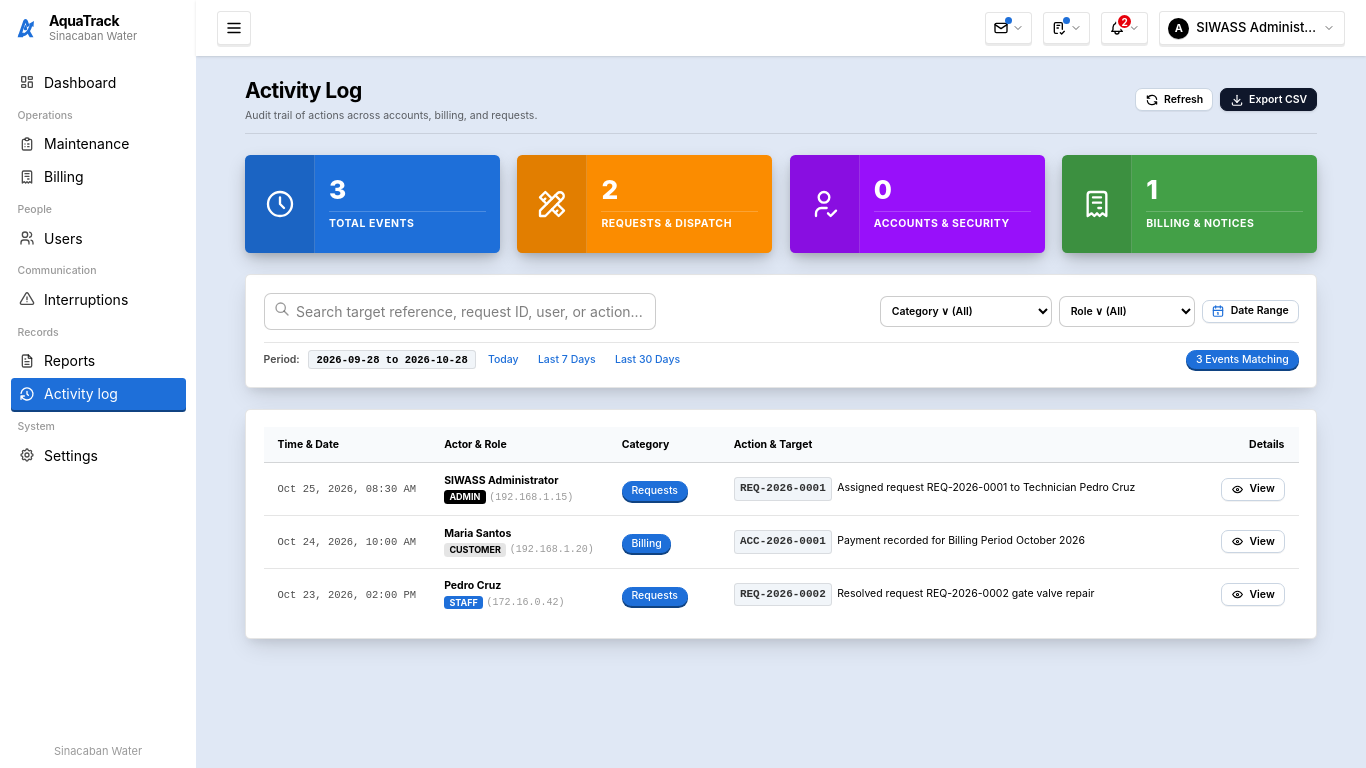
Test case: AdminActivityLogView (Section 13 Audit Trail) › filters audit records by role dropdown
Select "Field Staff" in the dropdown named "filter by role" at (1127, 311), box [1059,296,1195,326]
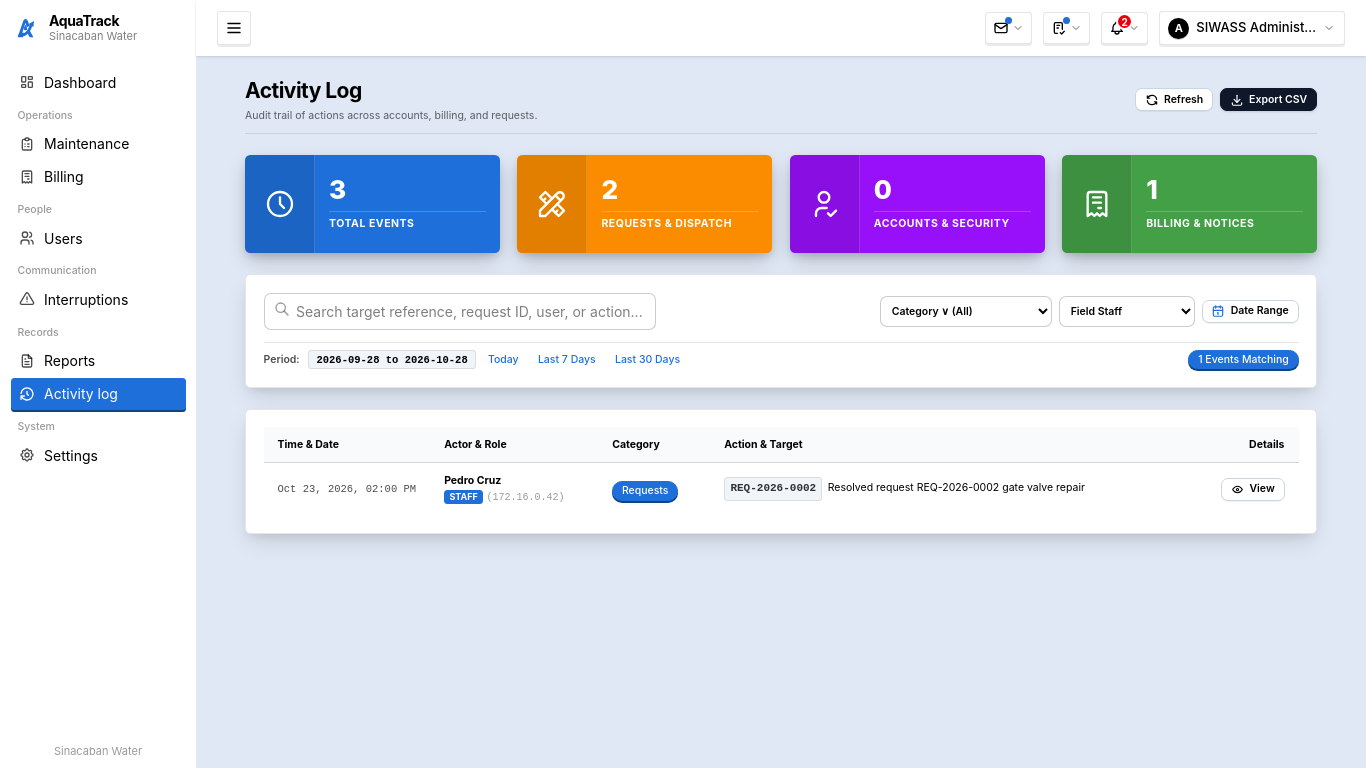
Expected: the text "Pedro Cruz" is shown, [444,474,501,487]
Expected: the text "Maria Santos" is gone
